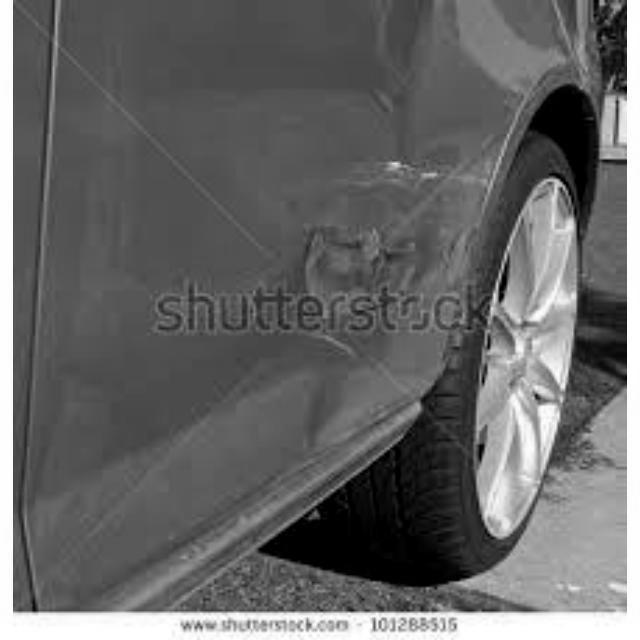doorouter-dent: (92, 50, 455, 472)
